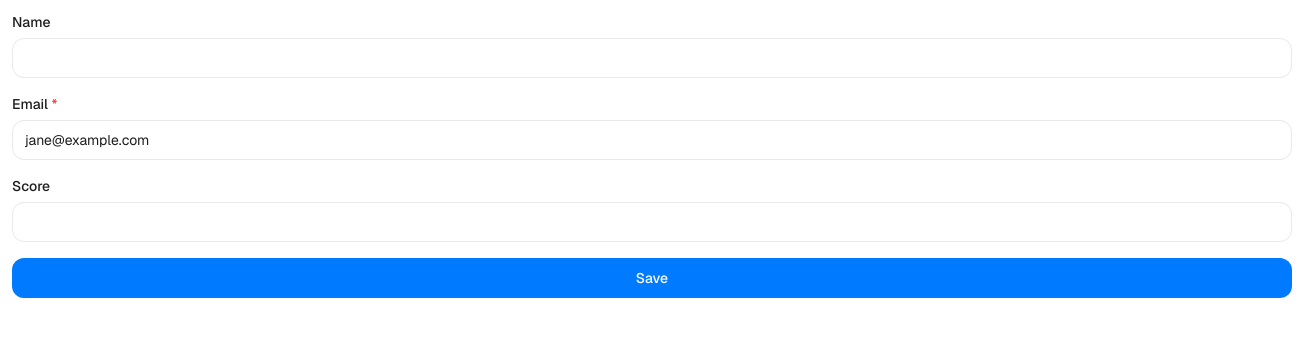
Scenario: ContactForm › custom field validation › shows error when number field value is not a valid number
The image size is (1304, 341).
Click the button "Save" at (652, 278), box [12, 258, 1292, 298]
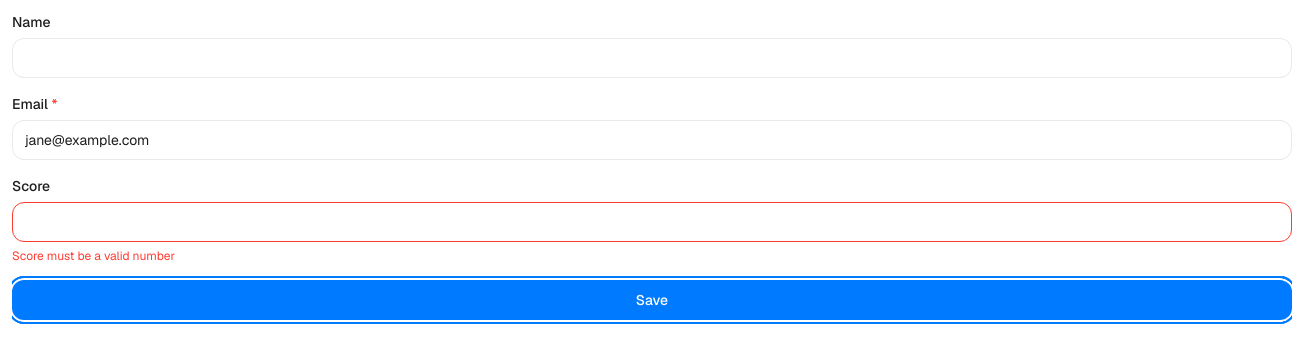
Now the text "Score must be a valid number" is shown, box [12, 248, 175, 264]
